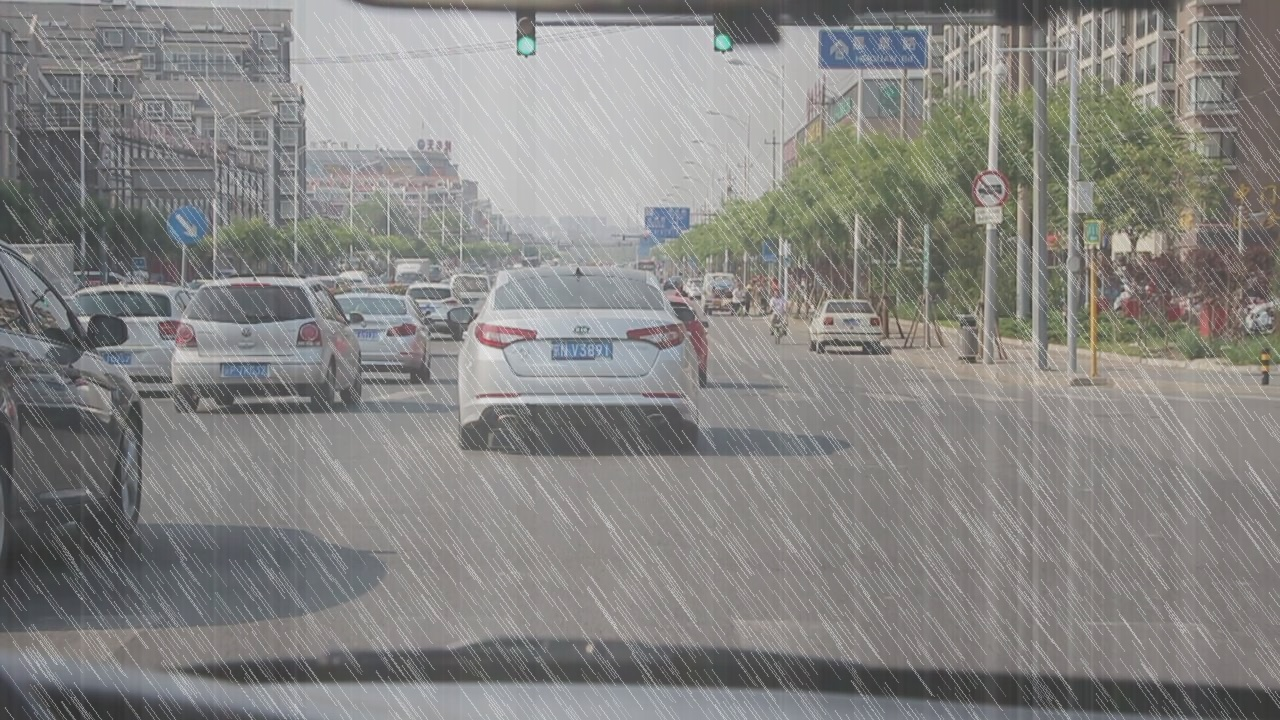Informative Signs: (164, 204, 209, 247)
Prohibitory Signs: (970, 169, 1011, 209)
